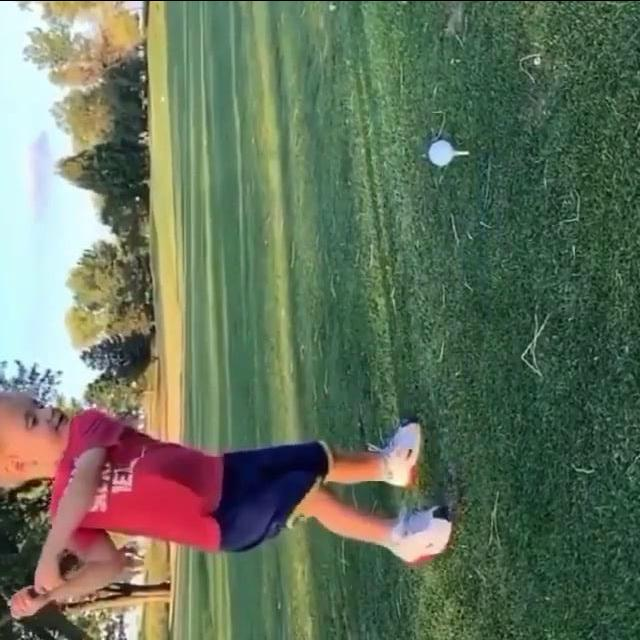golf club-handle: (0, 553, 79, 626)
